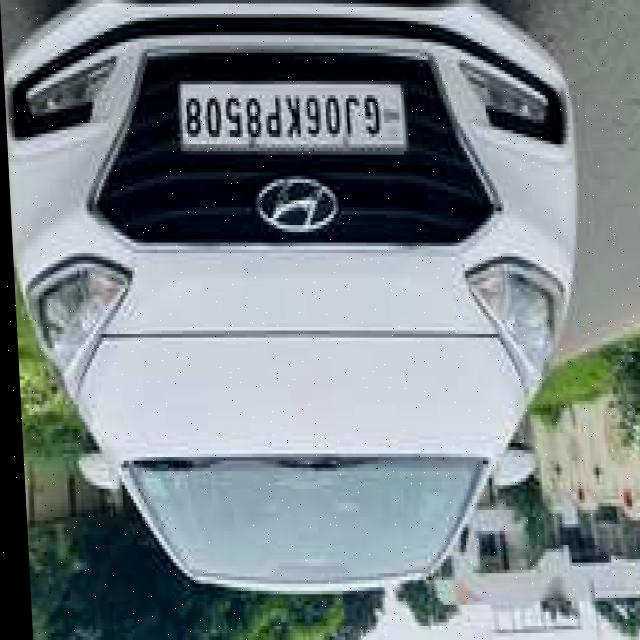plate: (179, 80, 403, 152)
